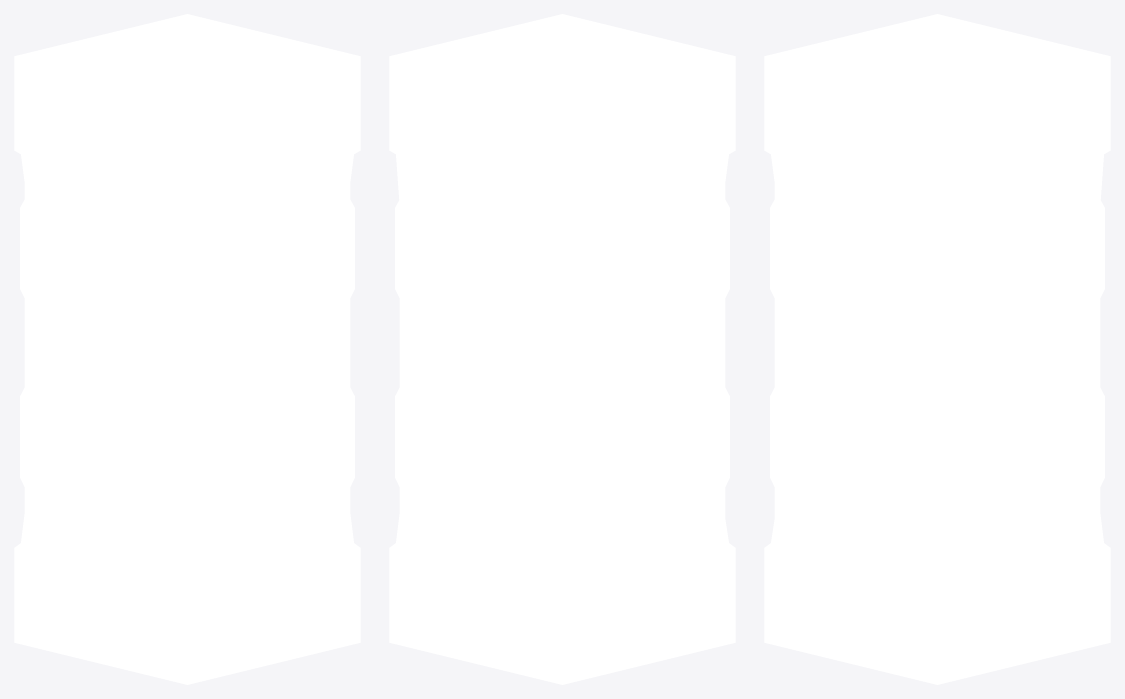
File: polybarrel2.glb
3 renders of one model, left to right at view 1: azimuth 30°, elevation 25°; view 2: azimuth 150°, elevation 25°; view 3: azimuth 270°, elevation 25°, orthographic.
Parts seen in each view (by area): view 1: PolyBarrel2; view 2: PolyBarrel2; view 3: PolyBarrel2.
Part boxes in pixels (left/top/right/bottom): PolyBarrel2: left=14, top=14, right=360, bottom=684; PolyBarrel2: left=389, top=14, right=735, bottom=684; PolyBarrel2: left=764, top=14, right=1110, bottom=684.
Size of the model in its own units: 0.6558 by 0.9135 by 0.5679.
Materials: 1 (1 with a texture image).
